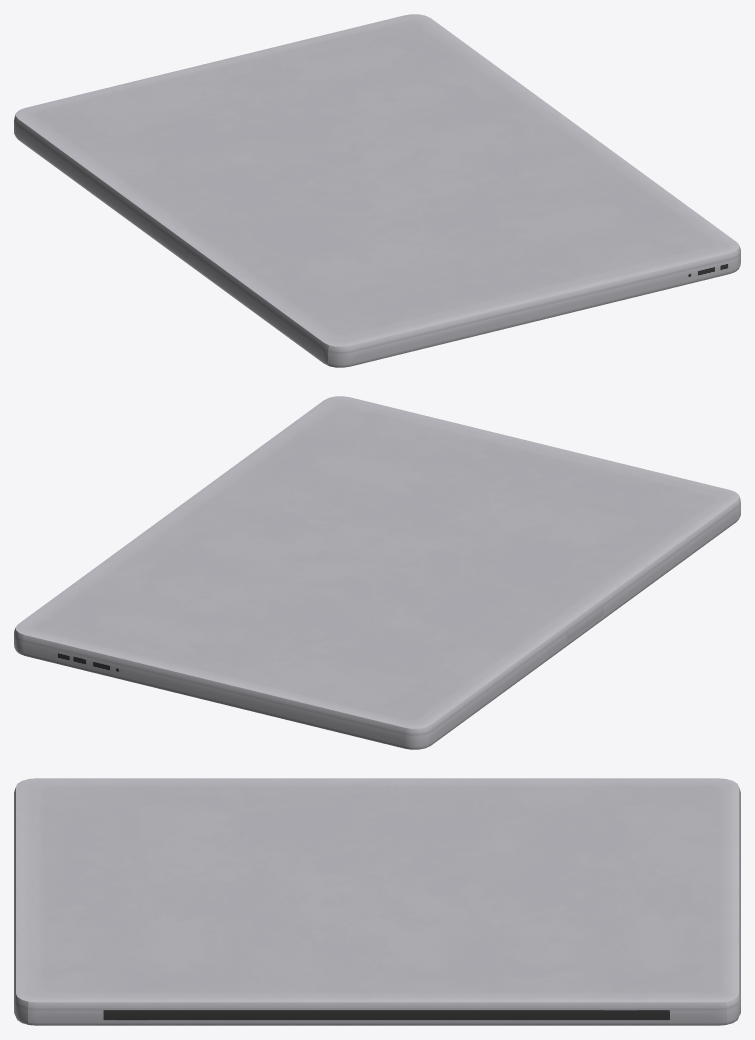
File: SM_Laptop.fbx
3 views of the same model, one above another, from view 1: azimuth 30°, elevation 25°; view 2: azimuth 150°, elevation 25°; view 3: azimuth 270°, elevation 25° (orthographic). The views are drawn at different scales.
Parts seen in each view (by area): view 1: SM_Laptop_LOD0; view 2: SM_Laptop_LOD0; view 3: SM_Laptop_LOD0.
Part boxes in pixels (left/top/right/bottom): SM_Laptop_LOD0: left=14, top=14, right=740, bottom=367; SM_Laptop_LOD0: left=14, top=396, right=740, bottom=749; SM_Laptop_LOD0: left=14, top=778, right=740, bottom=1025.
Bounding box in the file's own units: 44.22 × 60.19 × 2.34.
1 material, 1 textured.
